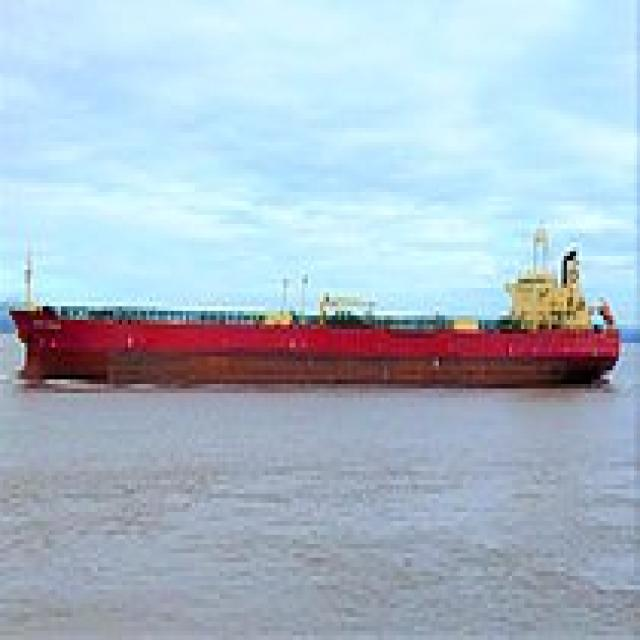Tanker: (3, 206, 622, 384)
